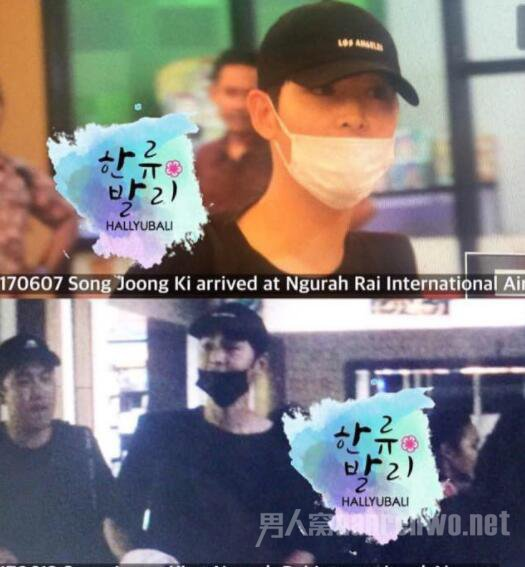mask: (264, 71, 416, 219), (181, 344, 273, 410)
